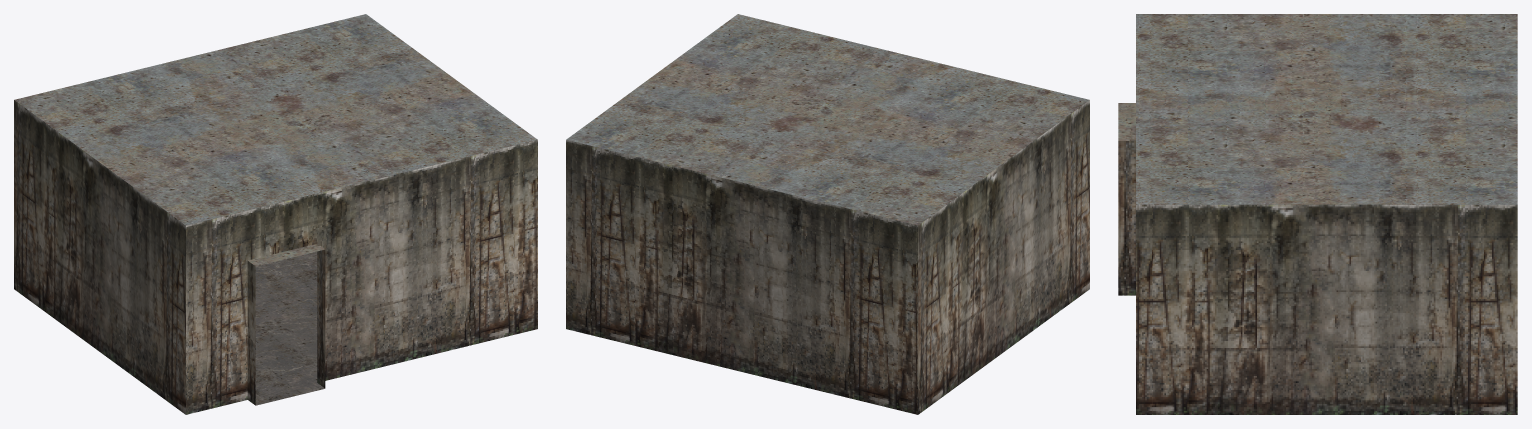
File: _Room_9.FBX
3 views of the same model, side by side, from view 1: azimuth 30°, elevation 25°; view 2: azimuth 150°, elevation 25°; view 3: azimuth 270°, elevation 25° (orthographic). The views are drawn at different scales.
Parts seen in each view (by area): view 1: _Room_9; view 2: _Room_9; view 3: _Room_9.
Boxes of the visible parts, <box> form: _Room_9: <box>14,14,537,414</box>; _Room_9: <box>566,14,1089,414</box>; _Room_9: <box>1118,14,1517,414</box>.
Size of the model in its own units: 1207 by 620 by 1068.
4 materials, 4 textured.
